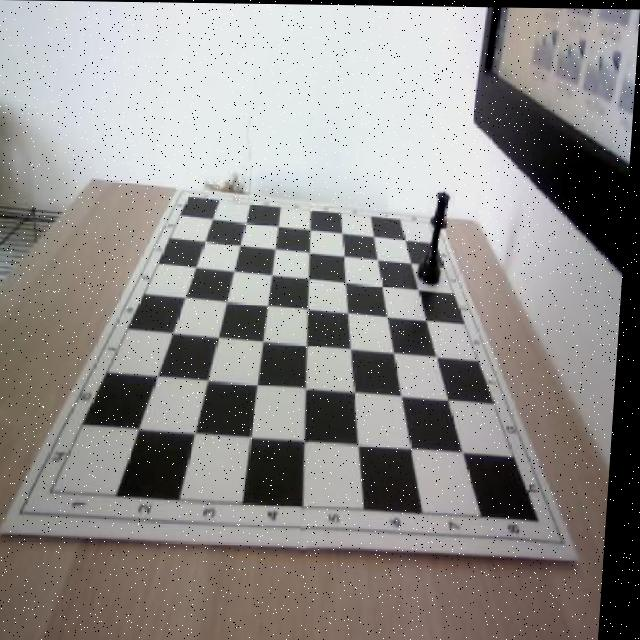black-pawn: (419, 188, 455, 284)
